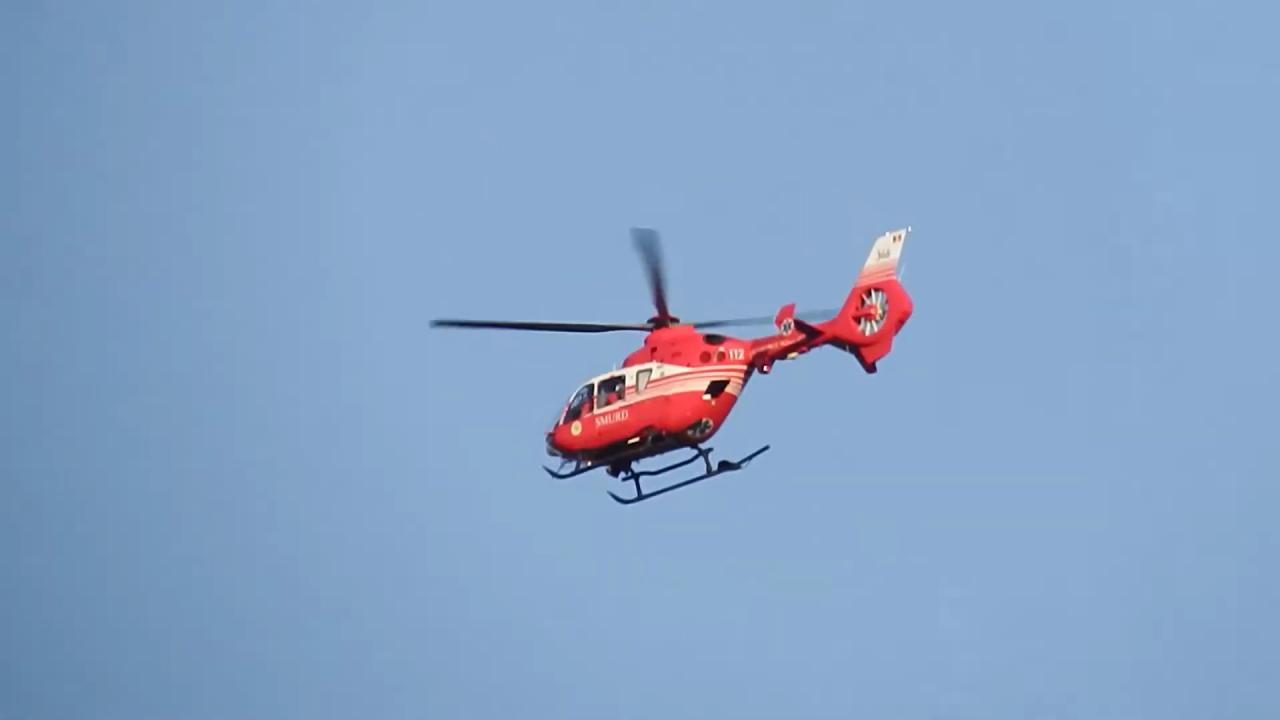Helicopter: (419, 214, 941, 515)
